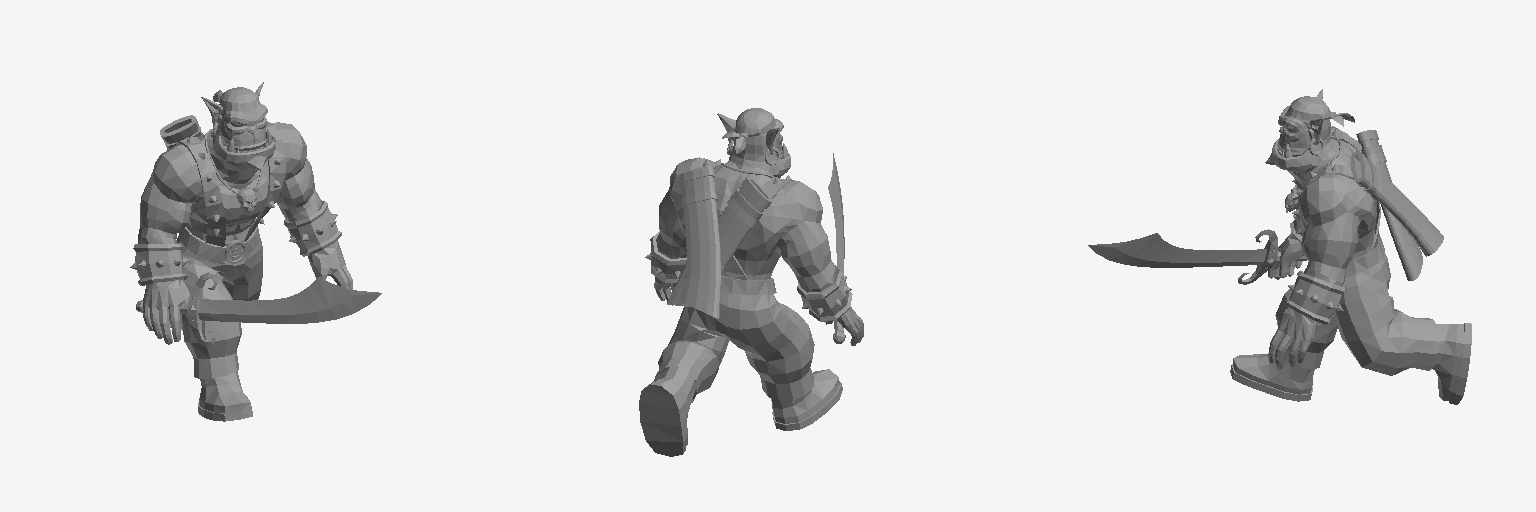
The model's file is sinbad_000004.obj.
3 renders of one model, left to right at view 1: azimuth 30°, elevation 25°; view 2: azimuth 150°, elevation 25°; view 3: azimuth 270°, elevation 25°, orthographic.
Parts seen in each view (by area): view 1: Sinbad, Sword; view 2: Sinbad, Sword; view 3: Sinbad, Sword.
Boxes of the visible parts, x1=… form: Sinbad: x1=130, y1=82, x2=352, y2=421; Sword: x1=136, y1=272, x2=381, y2=346; Sinbad: x1=639, y1=108, x2=863, y2=456; Sword: x1=828, y1=153, x2=845, y2=343; Sinbad: x1=1230, y1=89, x2=1471, y2=404; Sword: x1=1088, y1=229, x2=1306, y2=284.
Size of the model in its own units: 5.84 by 8.59 by 9.61.